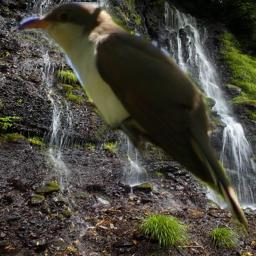Cuckoo: (12, 2, 248, 237)
